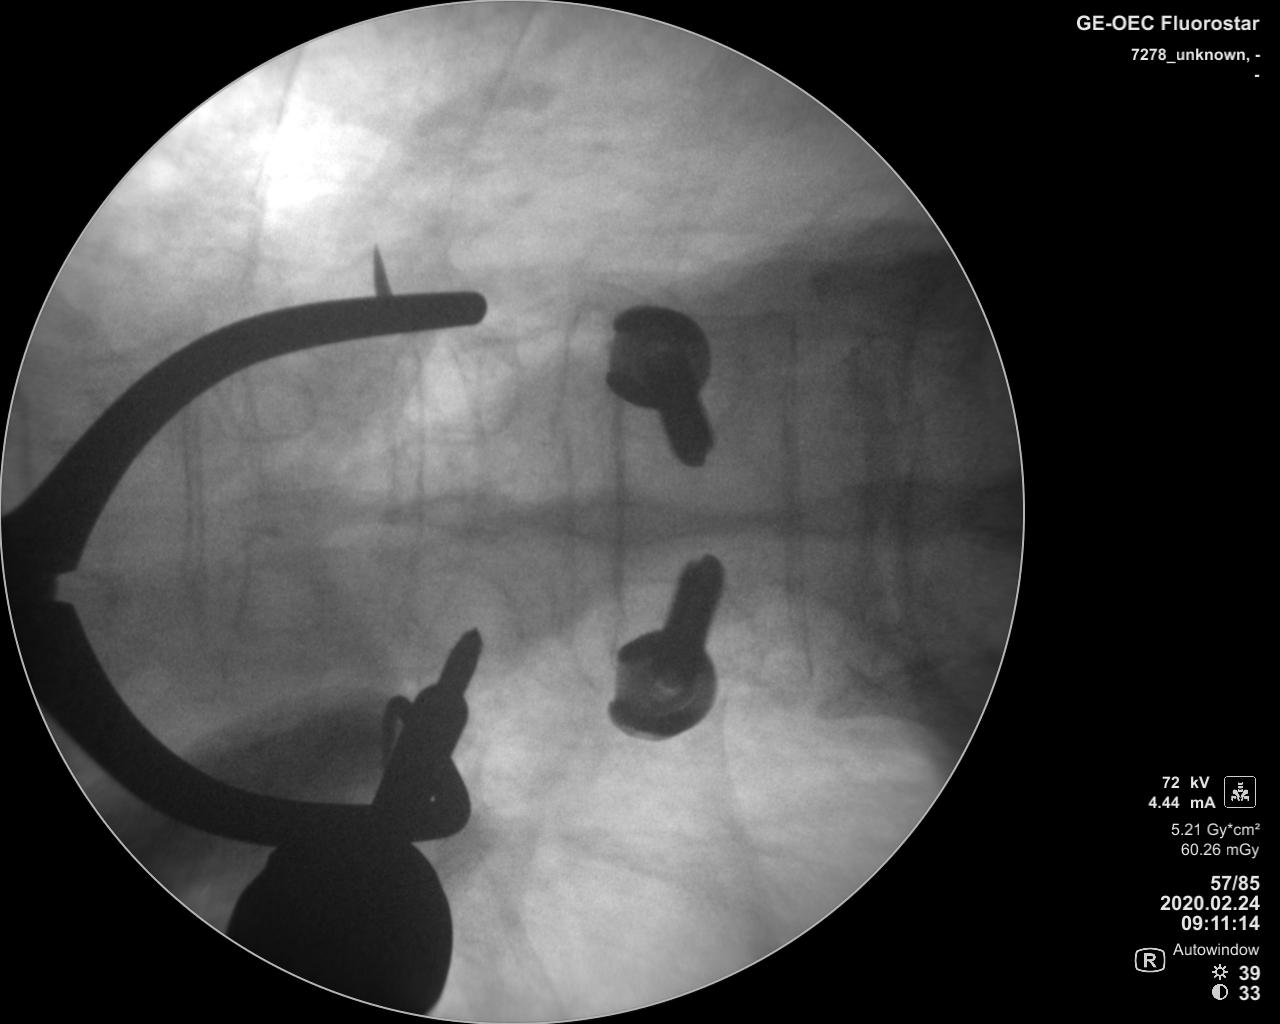eyes: (401, 338, 523, 440), (421, 571, 528, 668), (223, 556, 324, 639), (218, 364, 320, 446)
line: (778, 346, 809, 659), (394, 348, 426, 621), (860, 347, 885, 632), (174, 417, 206, 622), (558, 347, 579, 639), (603, 399, 629, 630)
nose: (768, 476, 956, 546), (551, 486, 711, 546), (218, 482, 373, 542), (385, 482, 539, 535)
